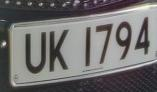1: (78, 18, 97, 75)
4: (132, 13, 152, 59)
7: (93, 18, 116, 69)
9: (114, 17, 134, 63)
K: (46, 24, 73, 79)
U: (22, 27, 49, 79)
